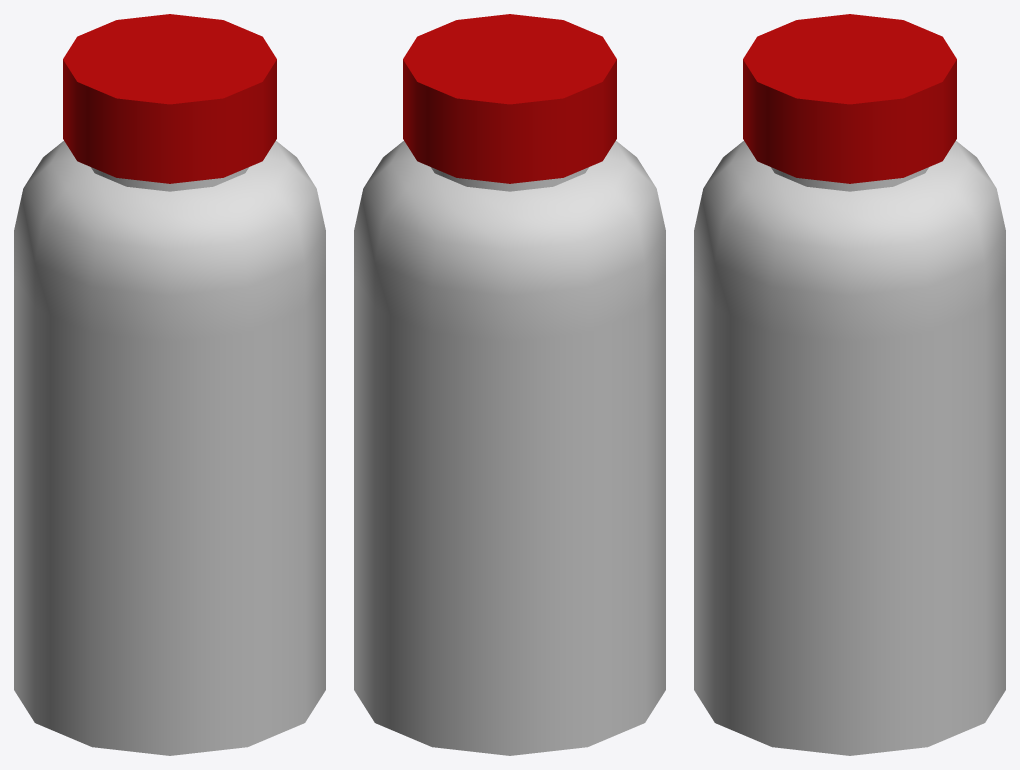
File: PlasticBottle02.fbx
3 views of the same model, side by side, from view 1: azimuth 30°, elevation 25°; view 2: azimuth 150°, elevation 25°; view 3: azimuth 270°, elevation 25° (orthographic).
Visible parts, largest first — view 1: PlasticBottle02; view 2: PlasticBottle02; view 3: PlasticBottle02.
Boxes of the visible parts, x1=… form: PlasticBottle02: x1=14, y1=14, x2=325, y2=755; PlasticBottle02: x1=354, y1=14, x2=665, y2=755; PlasticBottle02: x1=694, y1=14, x2=1005, y2=755.
Size of the model in its own units: 7.5 by 7.5 by 16.74.
